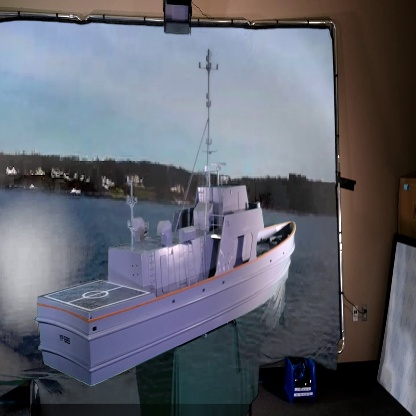YP689: (34, 49, 298, 387)
